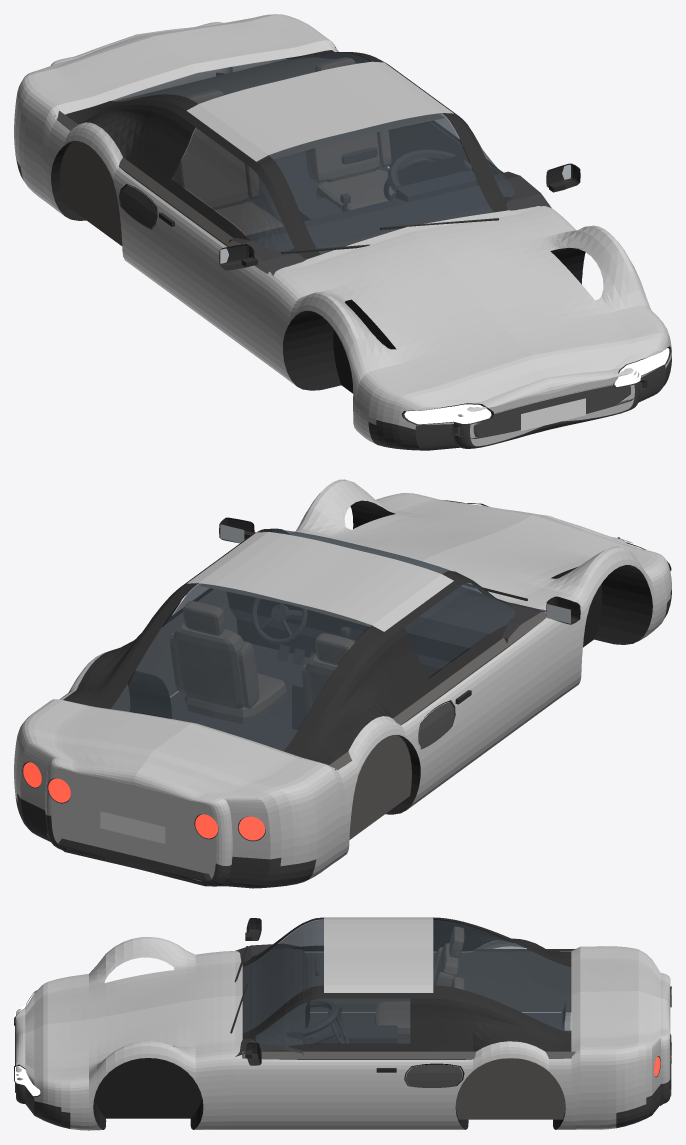
File: car_rivale.fbx
3 views of the same model, one above another, from view 1: azimuth 30°, elevation 25°; view 2: azimuth 150°, elevation 25°; view 3: azimuth 270°, elevation 25° (orthographic). The views are drawn at different scales.
Parts seen in each view (by area): view 1: rivale__hood, rivale__glass, rivale__trunk, rivale__roof, rivale__interior, rivale__cabin, rivale__seats, rivale__pillars, rivale__doorR, rivale__fenderFR, rivale__quarterR, rivale__wells (+12 smaller); view 2: rivale__glass, rivale__hood, rivale__trunk, rivale__interior, rivale__pillars, rivale__roof, rivale__quarterR, rivale__rearPanel, rivale__seats, rivale__doorR, rivale__cabin, rivale__wells (+10 smaller); view 3: rivale__hood, rivale__glass, rivale__cabin, rivale__doorL, rivale__trunk, rivale__pillars, rivale__quarterL, rivale__interior, rivale__roof, rivale__fenderFL, rivale__wells, rivale__seals (+10 smaller).
Boxes of the visible parts, box(x1,y1,x2,y2) form: rivale__hood: box(277, 207, 657, 411); rivale__glass: box(112, 52, 514, 253); rivale__trunk: box(28, 14, 546, 273); rivale__roof: box(186, 61, 453, 161); rivale__interior: box(172, 147, 551, 276); rivale__cabin: box(54, 47, 503, 273); rivale__seats: box(172, 57, 394, 235); rivale__pillars: box(69, 50, 512, 259); rivale__doorR: box(138, 189, 261, 360); rivale__fenderFR: box(253, 271, 453, 444); rivale__quarterR: box(14, 73, 147, 276); rivale__wells: box(51, 141, 585, 393); rivale__glass: box(111, 529, 515, 750); rivale__hood: box(292, 480, 657, 608); rivale__trunk: box(28, 585, 546, 807); rivale__interior: box(170, 587, 546, 751); rivale__pillars: box(69, 528, 511, 763); rivale__roof: box(187, 532, 453, 631); rivale__quarterR: box(224, 705, 438, 881); rivale__rearPanel: box(45, 759, 232, 881); rivale__seats: box(170, 601, 354, 723); rivale__doorR: box(430, 620, 552, 792); rivale__cabin: box(59, 583, 546, 839); rivale__wells: box(127, 500, 652, 814); rivale__hood: box(16, 938, 235, 1079); rivale__glass: box(243, 919, 570, 1045); rivale__cabin: box(242, 949, 575, 1119); rivale__doorL: box(249, 1059, 428, 1129); rivale__trunk: box(235, 946, 670, 1054); rivale__pillars: box(242, 917, 571, 1051); rivale__quarterL: box(428, 1037, 660, 1129); rivale__interior: box(235, 944, 564, 1056); rivale__roof: box(324, 917, 433, 992); rivale__fenderFL: box(26, 1041, 249, 1130); rivale__wells: box(93, 1000, 565, 1129); rivale__seals: box(261, 938, 571, 1051).
Bounding box in the file's own units: 2.38 × 1.07 × 4.87.
